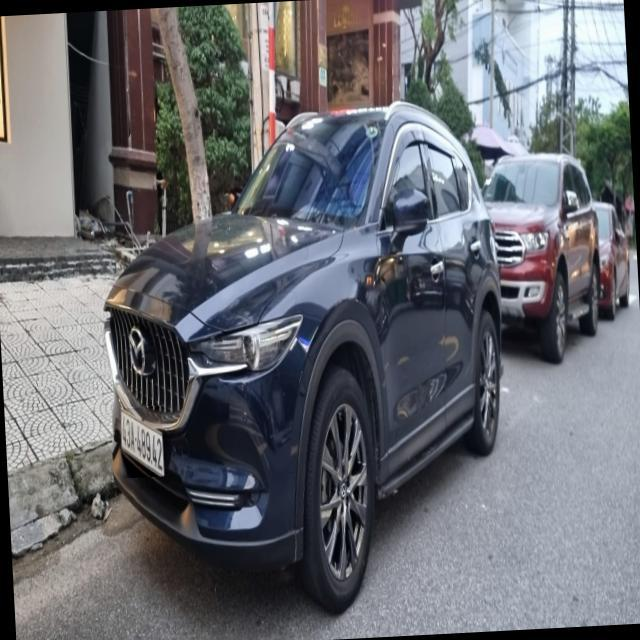car: (82, 96, 509, 601), (484, 155, 620, 353)
plate: (116, 411, 169, 481)
